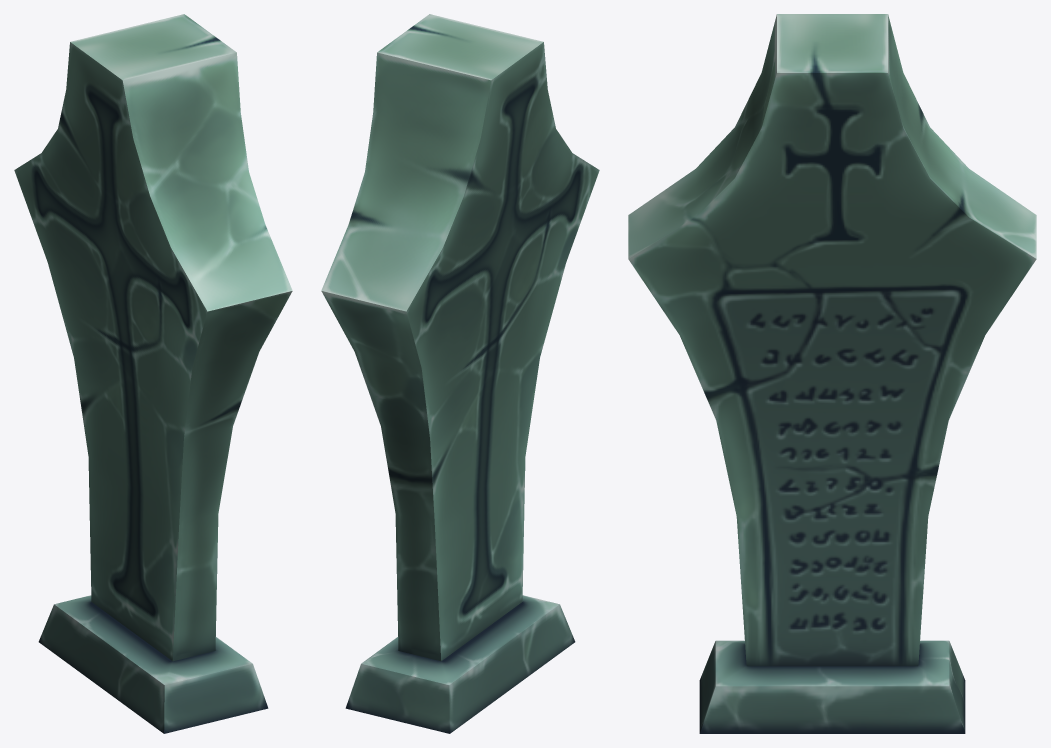
File: tombstone_big_01.fbx
3 views of the same model, side by side, from view 1: azimuth 30°, elevation 25°; view 2: azimuth 150°, elevation 25°; view 3: azimuth 270°, elevation 25° (orthographic). The views are drawn at different scales.
Visible parts, largest first — view 1: tombstone_big_01; view 2: tombstone_big_01; view 3: tombstone_big_01.
Part boxes in pixels (x1=…): tombstone_big_01: x1=14, y1=14, x2=292, y2=733; tombstone_big_01: x1=321, y1=14, x2=599, y2=733; tombstone_big_01: x1=628, y1=14, x2=1036, y2=733.
Size of the model in its own units: 3.26 by 17.09 by 9.53.
